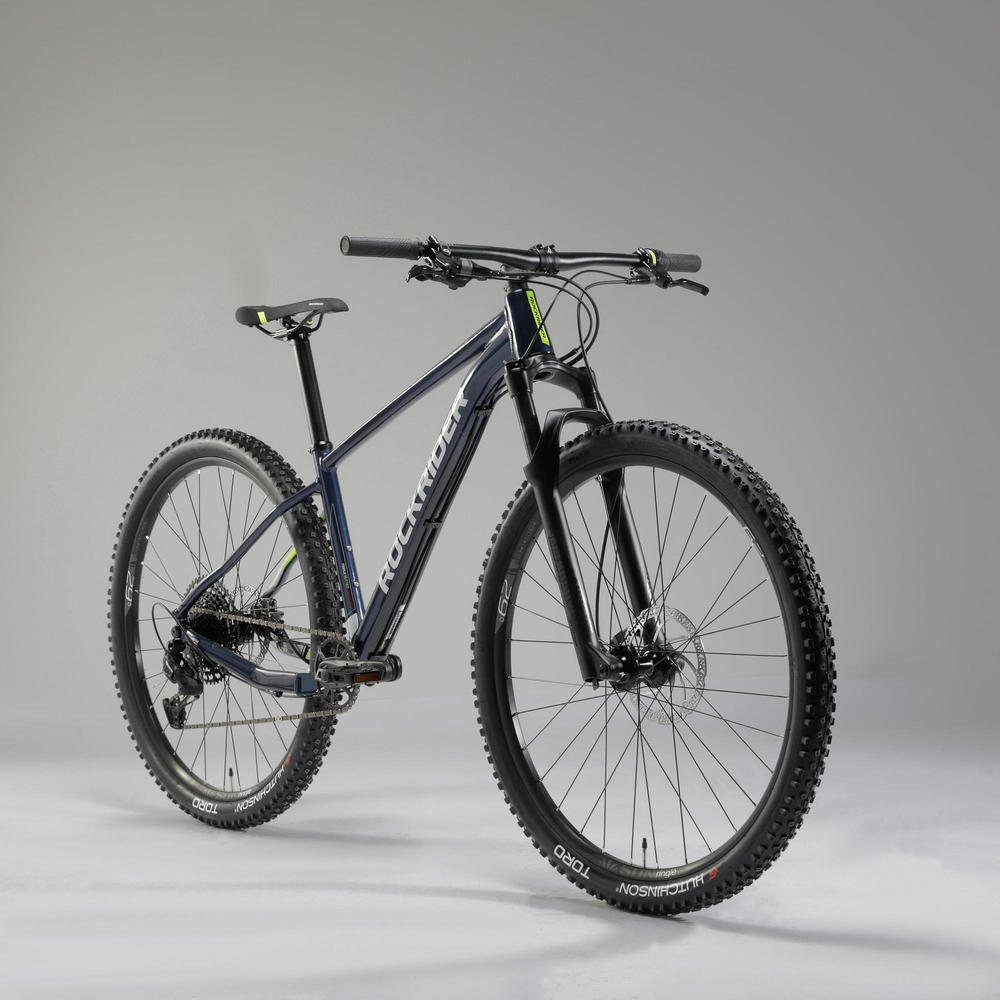MountainBike: (85, 225, 845, 908)
